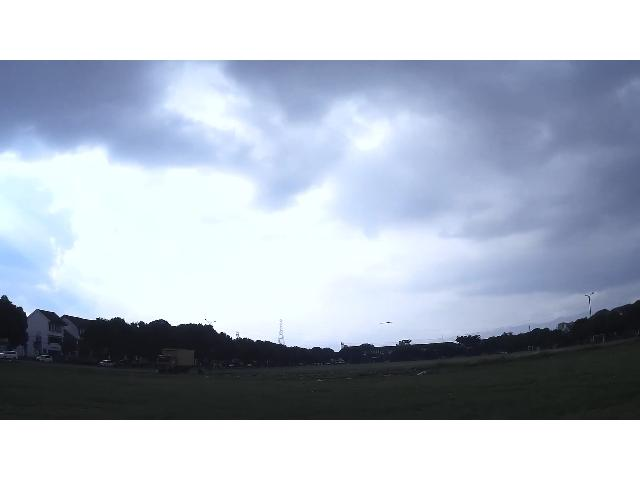Anti-Drone: (380, 321, 396, 323)
